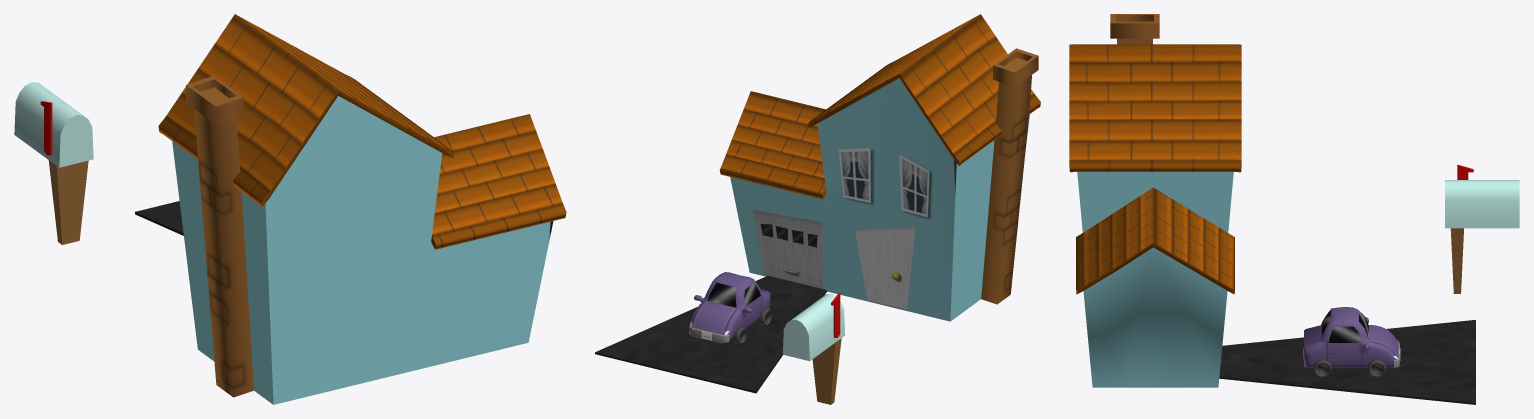
The model's file is house_7_30_13.FBX.
The picture shows the model from 3 angles, left to right: view 1: azimuth 30°, elevation 25°; view 2: azimuth 150°, elevation 25°; view 3: azimuth 270°, elevation 25°; orthographic projection. The views are drawn at different scales.
Parts seen in each view (by area): view 1: Box001, Cylinder007, Box005, Box004, Box006; view 2: Box001, Box004, Box003, Cylinder007, Box005; view 3: Box001, Box004, Box003, Cylinder007, Box005.
Part boxes in pixels (x1,y1,x2,y2): Box001: (158,14,566,404); Cylinder007: (14,82,93,167); Box005: (48,160,88,244); Box004: (135,201,183,235); Box006: (40,101,52,155); Box001: (719,14,1040,321); Box004: (595,275,826,393); Box003: (689,272,770,343); Cylinder007: (783,294,845,361); Box005: (812,338,841,404); Box001: (1069,14,1241,387); Box004: (1219,320,1475,404); Box003: (1304,307,1399,367); Cylinder007: (1445,180,1519,228); Box005: (1450,228,1463,293).
Bounding box in the file's own units: 71.2 × 62.39 × 97.04.
Materials: 1 (1 with a texture image).
